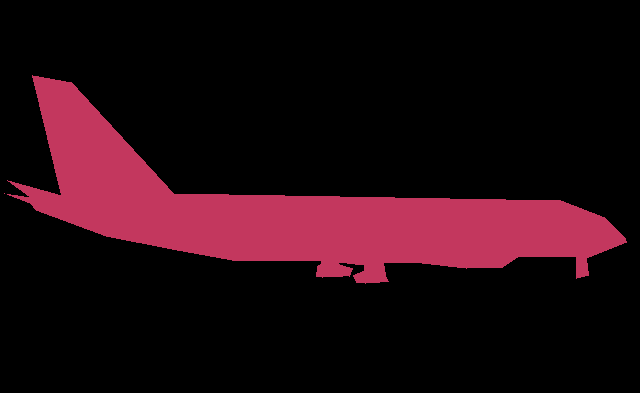Airplane: (4, 75, 627, 284)
